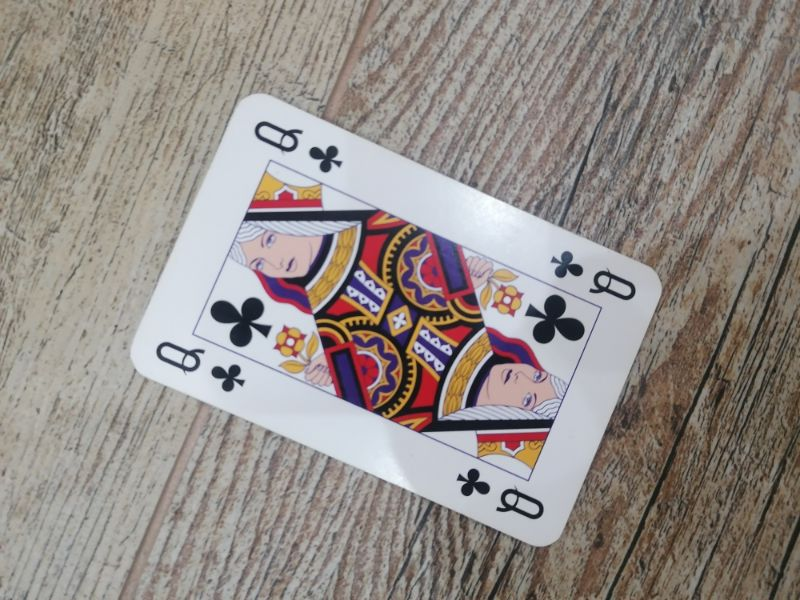Qc: (152, 337, 249, 395), (253, 117, 346, 176), (454, 464, 547, 522), (548, 247, 638, 306)
